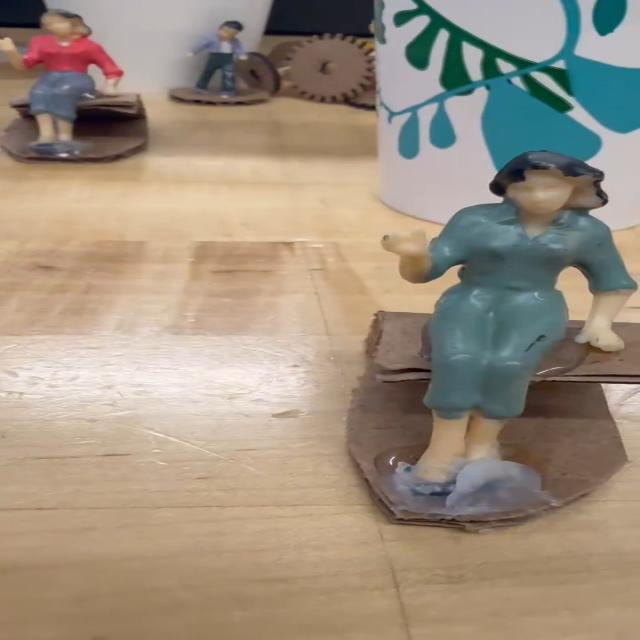Authorized: (350, 134, 632, 508)
